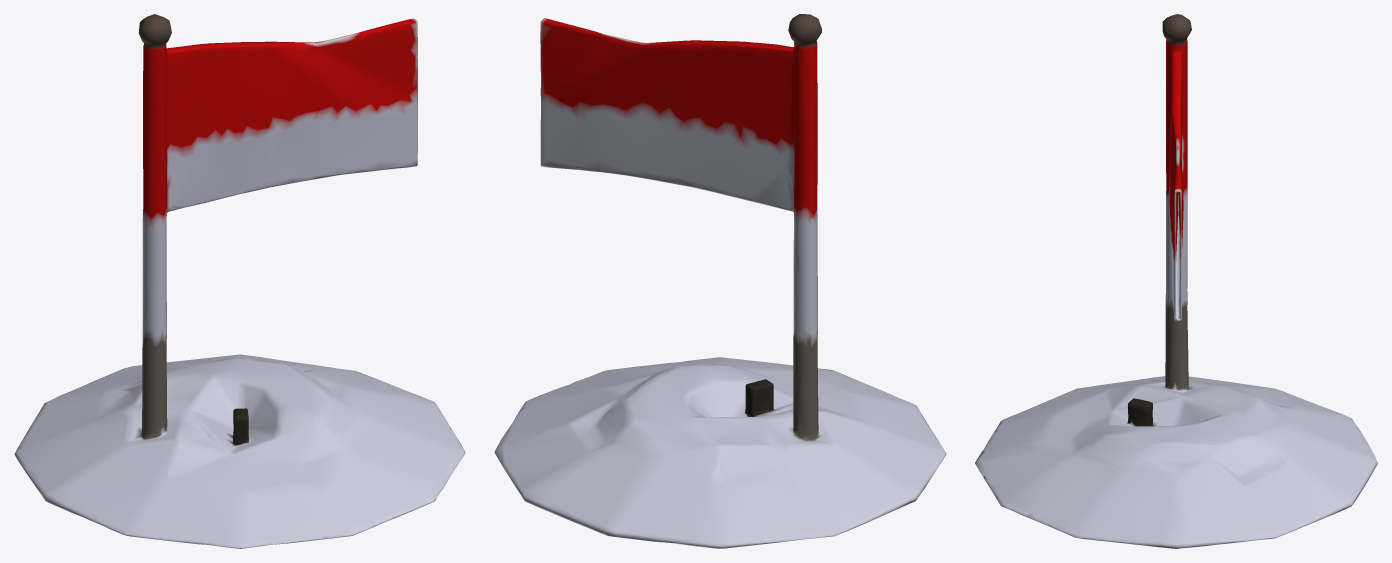
Rendered from gen3d-polar-flag-lod0.glb.
3 views of the same model, side by side, from view 1: azimuth 30°, elevation 25°; view 2: azimuth 150°, elevation 25°; view 3: azimuth 270°, elevation 25° (orthographic). The views are drawn at different scales.
Visible parts, largest first — view 1: part_0; view 2: part_0; view 3: part_0.
Part boxes in pixels (x1=…): part_0: x1=14, y1=14, x2=465, y2=548; part_0: x1=494, y1=14, x2=946, y2=548; part_0: x1=975, y1=14, x2=1377, y2=548.
Size of the model in its own units: 0.8891 by 0.999 by 0.8878.
